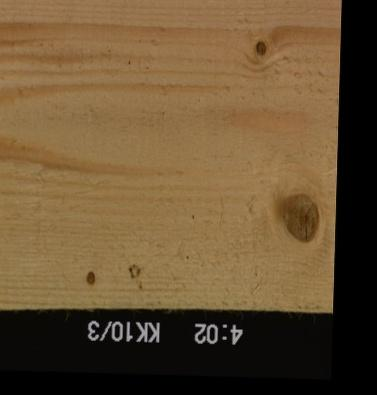dry_knot: (84, 269, 96, 286)
sound_knot: (279, 190, 321, 244), (253, 39, 269, 58)
